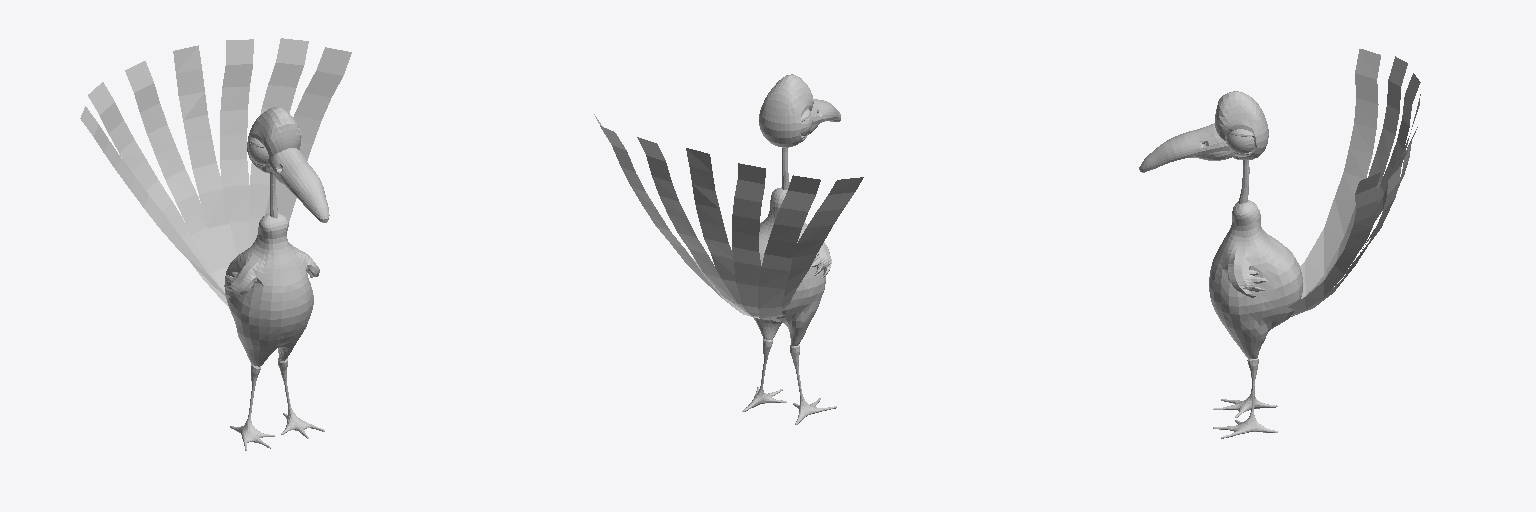
File: Fat Bird.obj
3 views of the same model, side by side, from view 1: azimuth 30°, elevation 25°; view 2: azimuth 150°, elevation 25°; view 3: azimuth 270°, elevation 25° (orthographic).
Parts seen in each view (by area): view 1: Tail, Body, Top_Beak, Head, R_Foot, L_Foot; view 2: Tail, Body, Head, R_Foot, L_Foot, Top_Beak; view 3: Tail, Body, Head, Top_Beak, L_Foot.
Part boxes in pixels (x1,y1,x2,y2): Tail: (80, 38, 351, 306); Body: (224, 213, 319, 366); Top_Beak: (269, 148, 329, 222); Head: (247, 107, 301, 173); R_Foot: (230, 364, 274, 450); L_Foot: (278, 358, 324, 438); Tail: (594, 114, 863, 319); Body: (753, 187, 831, 345); Head: (759, 74, 813, 147); R_Foot: (790, 345, 836, 424); L_Foot: (742, 338, 786, 411); Top_Beak: (811, 99, 840, 125); Tail: (1288, 49, 1420, 316); Body: (1209, 200, 1302, 358); Head: (1215, 91, 1268, 159); Top_Beak: (1139, 123, 1229, 172); L_Foot: (1213, 358, 1277, 438).
Bounding box in the file's own units: 2.39 × 2.76 × 2.14.